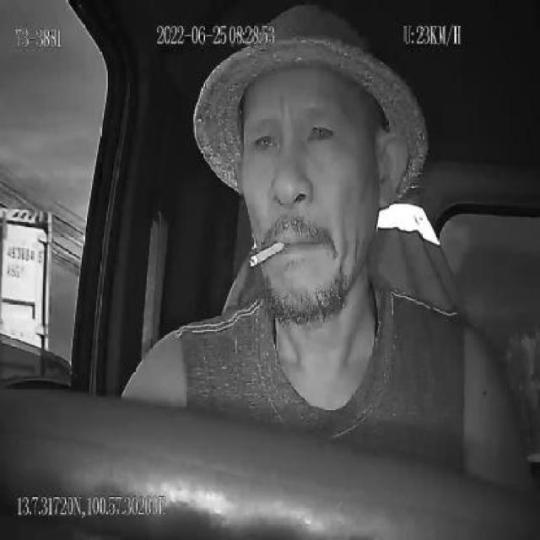smoking: (251, 239, 285, 269)
